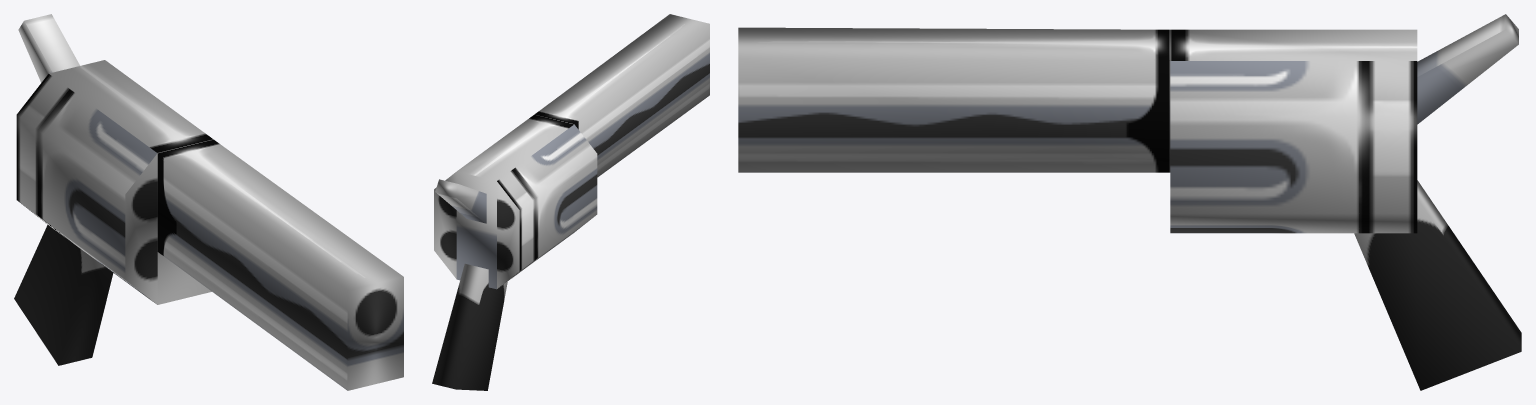
File: WpnHG_Revolver_01.FBX
The picture shows the model from 3 angles, left to right: view 1: azimuth 30°, elevation 25°; view 2: azimuth 150°, elevation 25°; view 3: azimuth 270°, elevation 25°; orthographic projection. The views are drawn at different scales.
Parts seen in each view (by area): view 1: NHTV_colin_20140715_1312:revolver_mesh:polySurface18; view 2: NHTV_colin_20140715_1312:revolver_mesh:polySurface18; view 3: NHTV_colin_20140715_1312:revolver_mesh:polySurface18.
Boxes of the visible parts, x1=… form: NHTV_colin_20140715_1312:revolver_mesh:polySurface18: x1=14, y1=14, x2=403, y2=390; NHTV_colin_20140715_1312:revolver_mesh:polySurface18: x1=432, y1=14, x2=709, y2=390; NHTV_colin_20140715_1312:revolver_mesh:polySurface18: x1=738, y1=14, x2=1521, y2=390.
Bounding box in the file's own units: 17.58 × 44.25 × 87.29.
